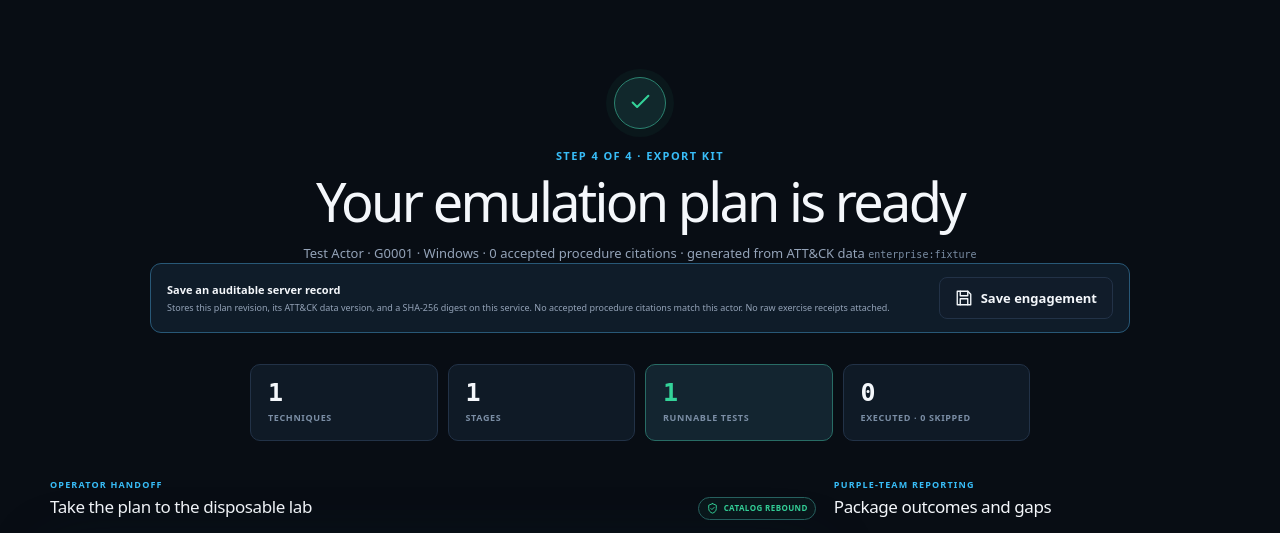
Test: ExportScreen report generation › keeps Save engagement failures visible beside enabled retry actions
Click the button "Save engagement" at [1026, 298], box [939,277,1113,319]
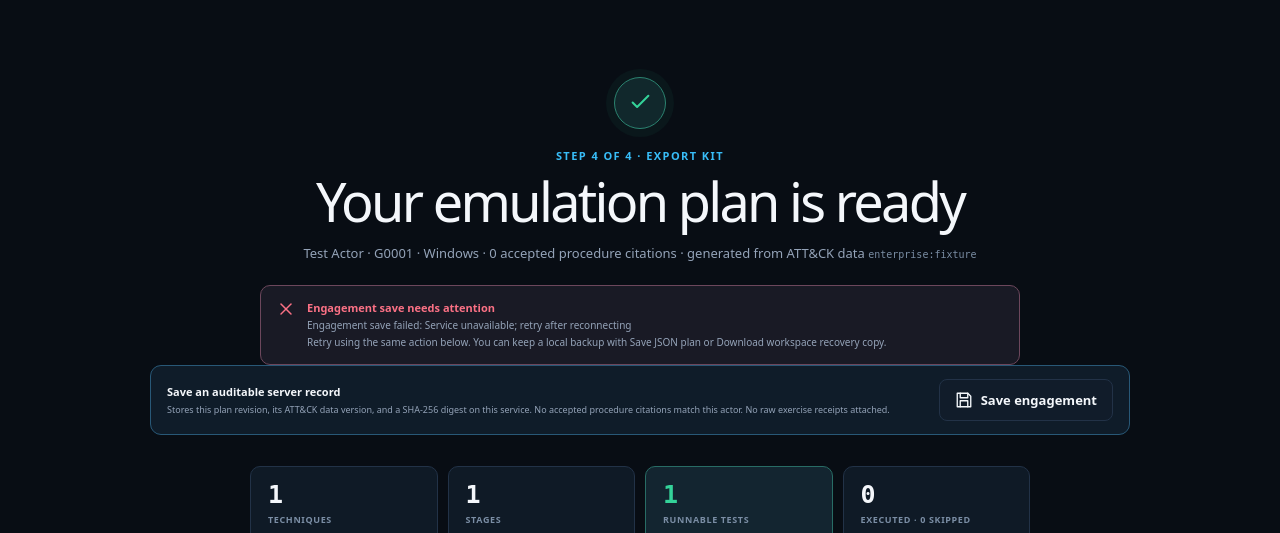
Check: the button "Save engagement" is enabled, box [939,379,1113,421]
Check: the message shows "Service unavailable", box [307,318,632,332]
